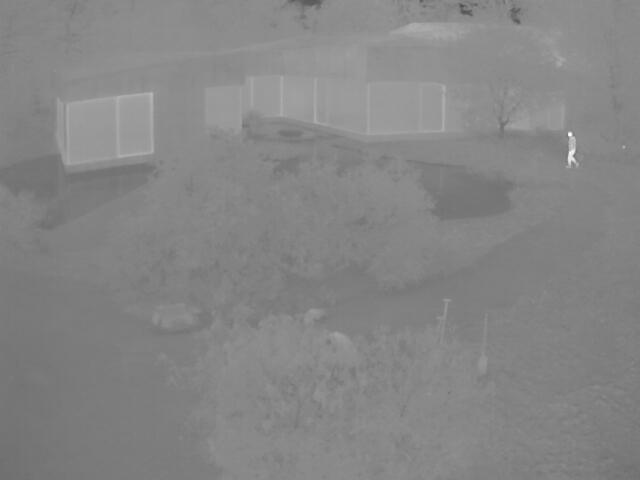person: (565, 131, 579, 167)
